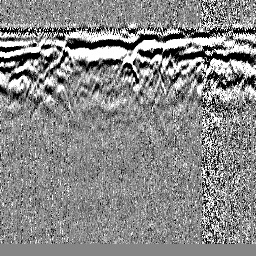cavity: (116, 55, 139, 85)
